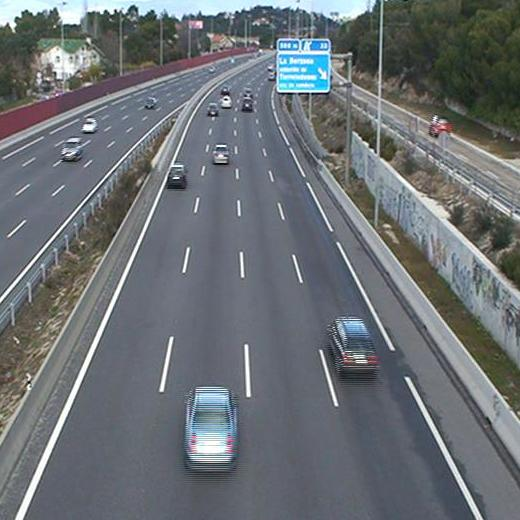car: (182, 384, 240, 474), (327, 313, 378, 373), (167, 165, 188, 186), (212, 143, 231, 163), (205, 101, 221, 119), (219, 94, 234, 108), (242, 96, 255, 111)
